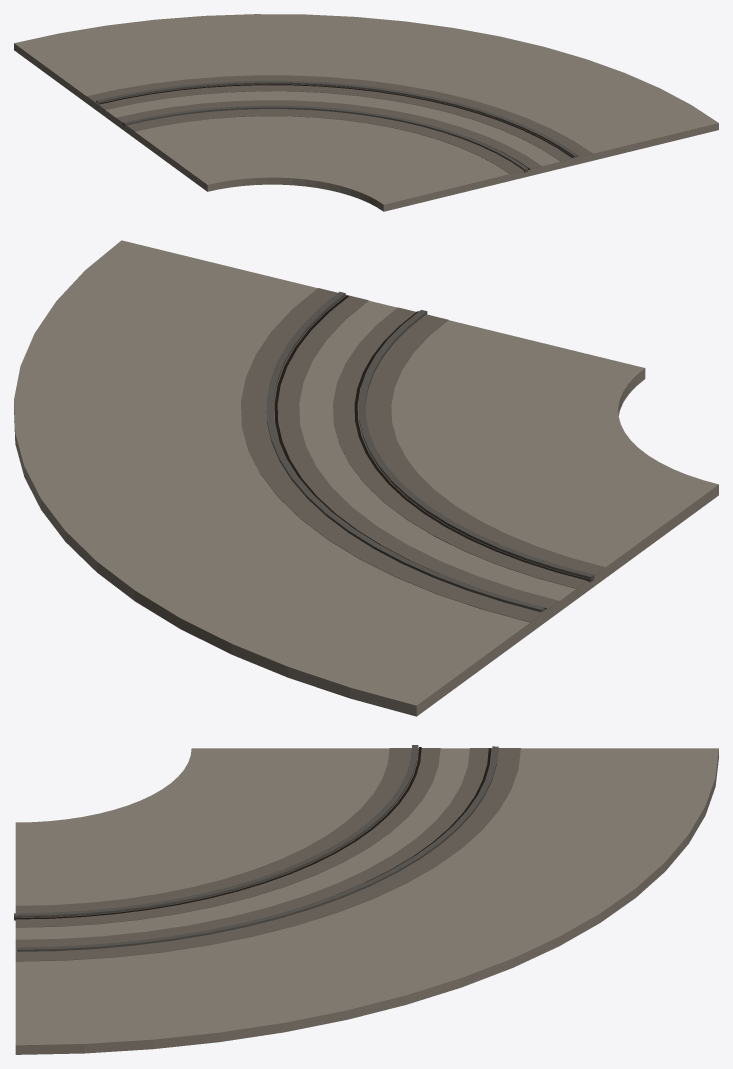
The model's file is rieles-riel-calle-curva.glb.
3 views of the same model, one above another, from view 1: azimuth 30°, elevation 25°; view 2: azimuth 150°, elevation 25°; view 3: azimuth 270°, elevation 25° (orthographic). The views are drawn at different scales.
Visible parts, largest first — view 1: riel_calle_curva_Adoquin, riel_calle_curva_Granito, riel_calle_curva_Riel, riel_calle_curva_Ranura; view 2: riel_calle_curva_Adoquin, riel_calle_curva_Granito, riel_calle_curva_Riel, riel_calle_curva_Ranura; view 3: riel_calle_curva_Adoquin, riel_calle_curva_Granito, riel_calle_curva_Riel, riel_calle_curva_Ranura.
Boxes of the visible parts, <box> form: riel_calle_curva_Adoquin: <box>14,14,718,211</box>; riel_calle_curva_Granito: <box>86,75,592,173</box>; riel_calle_curva_Riel: <box>96,80,578,172</box>; riel_calle_curva_Ranura: <box>98,84,573,169</box>; riel_calle_curva_Adoquin: <box>14,240,718,716</box>; riel_calle_curva_Granito: <box>241,288,605,622</box>; riel_calle_curva_Riel: <box>266,291,594,612</box>; riel_calle_curva_Ranura: <box>274,295,589,609</box>; riel_calle_curva_Adoquin: <box>15,748,718,1054</box>; riel_calle_curva_Granito: <box>15,748,520,961</box>; riel_calle_curva_Riel: <box>14,745,498,951</box>; riel_calle_curva_Ranura: <box>14,747,491,919</box>.
Size of the model in its own units: 8.02 by 0.15 by 8.02.
